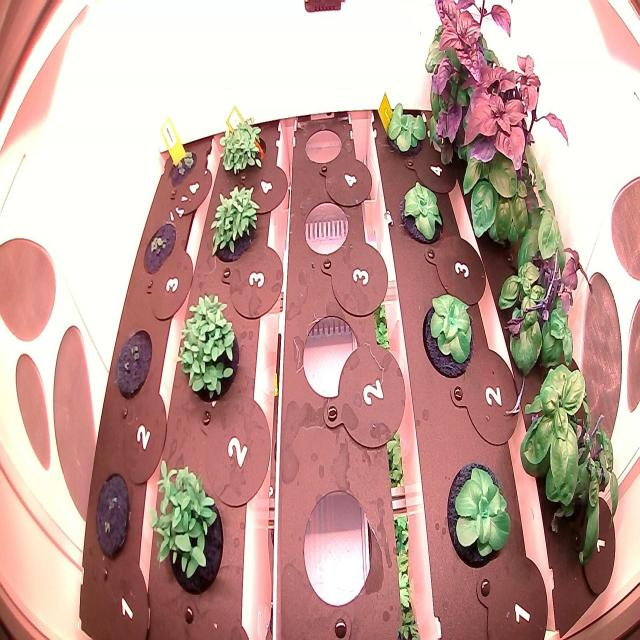empty_pod: (298, 482, 384, 612), (296, 306, 369, 412), (300, 195, 353, 265), (300, 119, 348, 173)
germination: (141, 452, 226, 602), (176, 287, 241, 408), (88, 459, 137, 564), (208, 181, 262, 271), (112, 321, 161, 406), (217, 114, 271, 182), (136, 213, 182, 281), (161, 138, 201, 194)
young: (444, 456, 515, 572), (420, 287, 476, 381), (399, 178, 446, 245), (384, 95, 428, 159)
